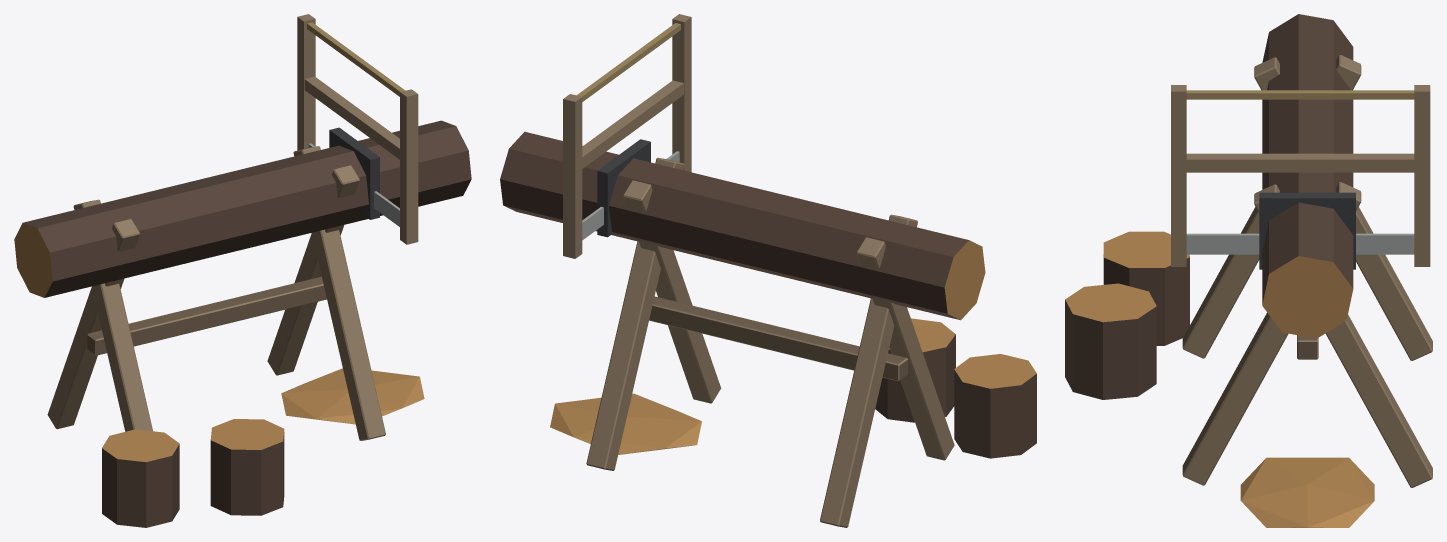
The model's file is sawhorse.glb.
3 views of the same model, side by side, from view 1: azimuth 30°, elevation 25°; view 2: azimuth 150°, elevation 25°; view 3: azimuth 270°, elevation 25° (orthographic). The views are drawn at different scales.
Visible parts, largest first — view 1: Sawhorse; view 2: Sawhorse; view 3: Sawhorse.
Part boxes in pixels (x1=…): Sawhorse: x1=14, y1=14, x2=471, y2=527; Sawhorse: x1=500, y1=14, x2=1036, y2=527; Sawhorse: x1=1065, y1=14, x2=1432, y2=527.
Bounding box in the file's own units: 1.6 × 1.28 × 1.03.
